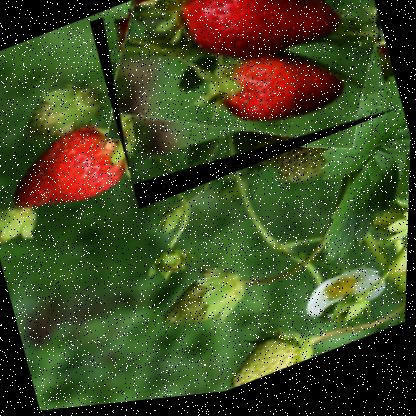strawberry: (83, 0, 403, 218)
